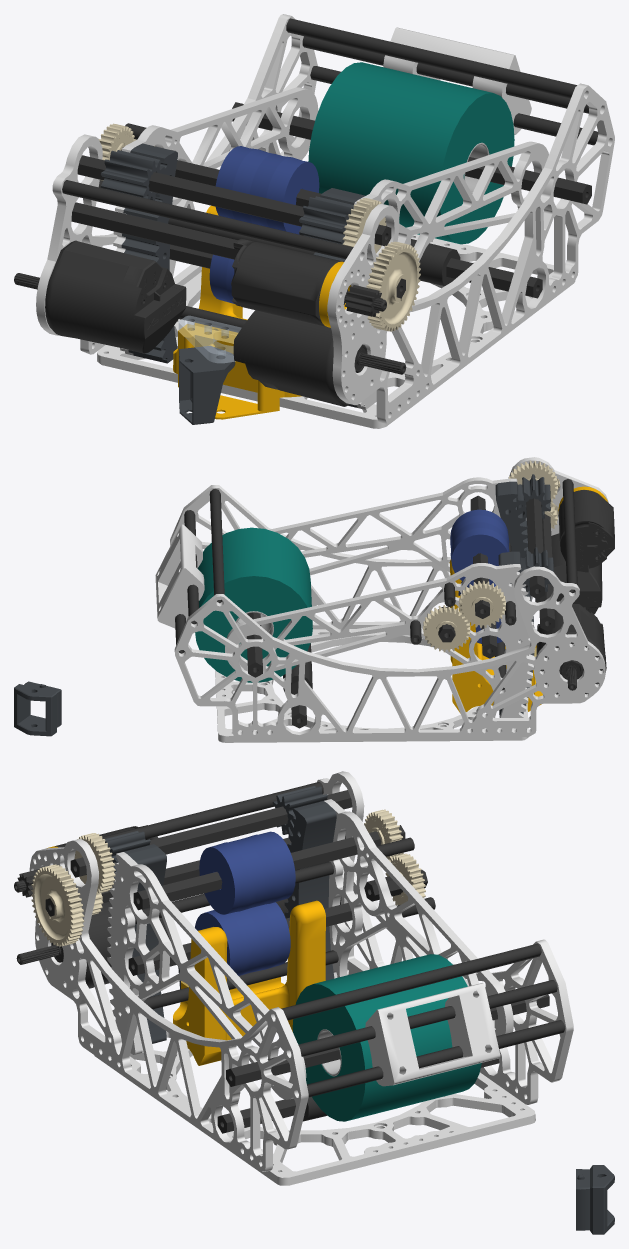
The model's file is 341-turret.glb.
The picture shows the model from 3 angles, top to bottom: view 1: azimuth 30°, elevation 25°; view 2: azimuth 150°, elevation 25°; view 3: azimuth 270°, elevation 25°; orthographic projection. The views are drawn at different scales.
Visible parts, largest first — view 1: 0.196" ID x 0.375" OD Aluminum Round Tube (1.198" L), Shooter Mount Plate, 2477K37_Abrasion-Resistant Roller 4" Round Urethane, 10DP Hood Plate, Cave attachment, 2" Stealth Wheel (50A, 1/2" Hex Bore), 44t Pocketed Aluminum Spur Gear (20 DP, 1/2" Hex Bore), Slug, Polycarb Mount; view 2: Shooter Mount Plate, 10DP Hood Plate, 0.196" ID x 0.375" OD Aluminum Round Tube (1.198" L), 2477K37_Abrasion-Resistant Roller 4" Round Urethane, Cave attachment, 44t Pocketed Aluminum Spur Gear (20 DP, 1/2" Hex Bore), 2" Stealth Wheel (50A, 1/2" Hex Bore), Slug; view 3: Shooter Mount Plate, 0.196" ID x 0.375" OD Aluminum Round Tube (1.198" L), 10DP Hood Plate, 2477K37_Abrasion-Resistant Roller 4" Round Urethane, 2" Stealth Wheel (50A, 1/2" Hex Bore), Cave attachment, Slug, 44t Pocketed Aluminum Spur Gear (20 DP, 1/2" Hex Bore).
Boxes of the visible parts, left/top/right/bottom form: 0.196" ID x 0.375" OD Aluminum Round Tube (1.198" L): left=14, top=18, right=598, bottom=406; Shooter Mount Plate: left=36, top=14, right=614, bottom=428; 2477K37_Abrasion-Resistant Roller 4" Round Urethane: left=308, top=62, right=514, bottom=244; 10DP Hood Plate: left=113, top=87, right=548, bottom=409; Cave attachment: left=101, top=143, right=365, bottom=424; 2" Stealth Wheel (50A, 1/2" Hex Bore): left=209, top=146, right=319, bottom=303; 44t Pocketed Aluminum Spur Gear (20 DP, 1/2" Hex Bore): left=99, top=123, right=420, bottom=331; Slug: left=173, top=205, right=351, bottom=419; Polycarb Mount: left=178, top=315, right=241, bottom=363; Shooter Mount Plate: left=155, top=457, right=608, bottom=742; 10DP Hood Plate: left=224, top=477, right=534, bottom=717; 0.196" ID x 0.375" OD Aluminum Round Tube (1.198" L): left=175, top=479, right=614, bottom=728; 2477K37_Abrasion-Resistant Roller 4" Round Urethane: left=195, top=527, right=312, bottom=682; Cave attachment: left=14, top=474, right=553, bottom=736; 44t Pocketed Aluminum Spur Gear (20 DP, 1/2" Hex Bore): left=423, top=460, right=560, bottom=652; 2" Stealth Wheel (50A, 1/2" Hex Bore): left=450, top=509, right=509, bottom=643; Slug: left=449, top=486, right=607, bottom=713; Shooter Mount Plate: left=29, top=771, right=573, bottom=1185; 0.196" ID x 0.375" OD Aluminum Round Tube (1.198" L): left=14, top=782, right=565, bottom=1133; 10DP Hood Plate: left=107, top=799, right=513, bottom=1099; 2477K37_Abrasion-Resistant Roller 4" Round Urethane: left=292, top=954, right=481, bottom=1121; 2" Stealth Wheel (50A, 1/2" Hex Bore): left=195, top=831, right=295, bottom=978; Cave attachment: left=105, top=786, right=614, bottom=1234; Slug: left=47, top=846, right=325, bottom=1065; 44t Pocketed Aluminum Spur Gear (20 DP, 1/2" Hex Bore): left=31, top=809, right=425, bottom=946.
Bounding box in the file's own units: 0.4651 × 0.1741 × 0.4317.
